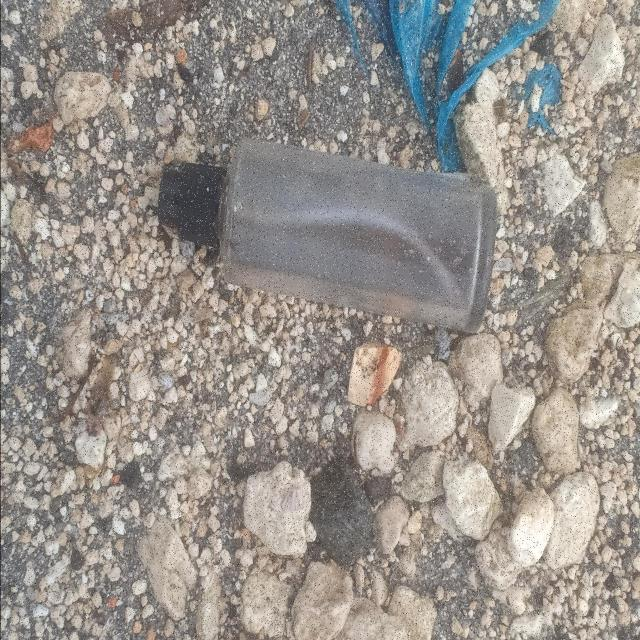plastic_waste: (157, 136, 499, 339)
